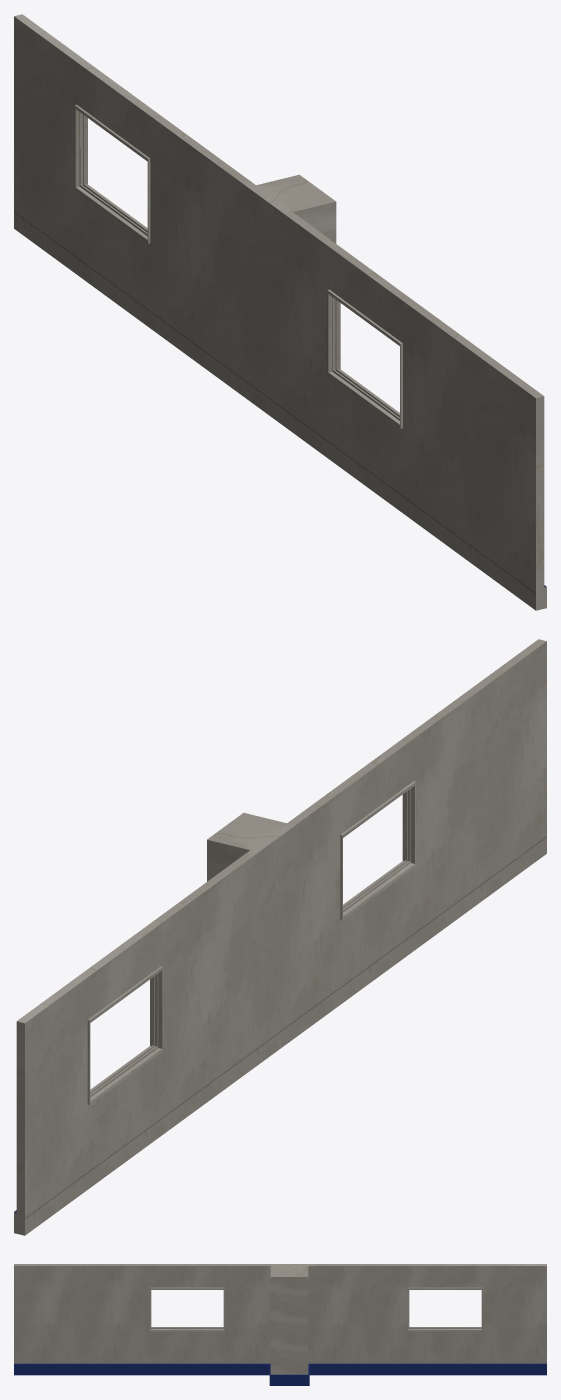
Rendered from wall.fbx.
The picture shows the model from 3 angles, top to bottom: view 1: azimuth 30°, elevation 25°; view 2: azimuth 150°, elevation 25°; view 3: azimuth 270°, elevation 25°; orthographic projection. The views are drawn at different scales.
Parts seen in each view (by area): view 1: pPlane24; view 2: pPlane24; view 3: pPlane24.
Boxes of the visible parts, <box> form: pPlane24: <box>14,14,546,610</box>; pPlane24: <box>14,639,546,1235</box>; pPlane24: <box>14,1264,546,1385</box>.
Bounding box in the file's own units: 82.77 × 298 × 1326.
